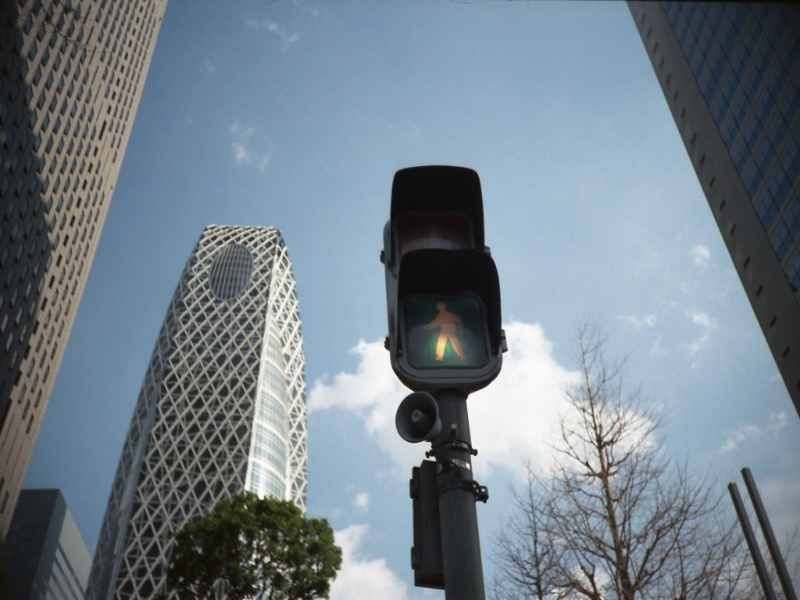pedestrian_crossing_ahead: (403, 288, 493, 373)
